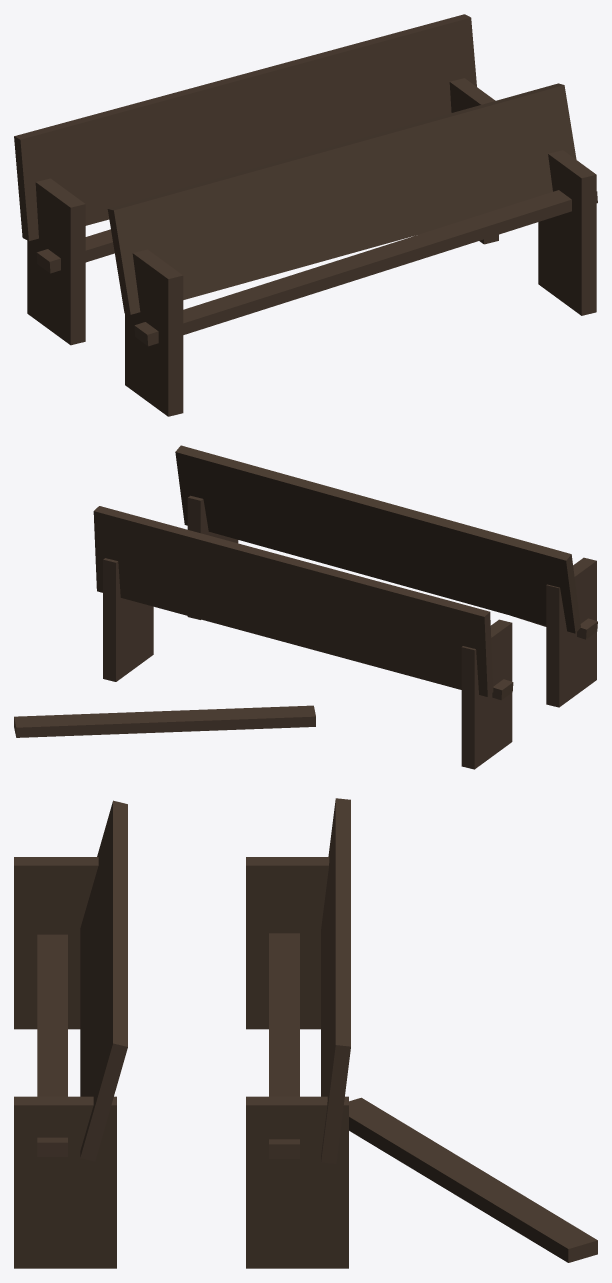
The model's file is CT_ENV_Pews.fbx.
3 renders of one model, top to bottom at view 1: azimuth 30°, elevation 25°; view 2: azimuth 150°, elevation 25°; view 3: azimuth 270°, elevation 25°, orthographic. The views are drawn at different scales.
Parts seen in each view (by area): view 1: CT_ENV_Pews; view 2: CT_ENV_Pews; view 3: CT_ENV_Pews.
Part boxes in pixels (bbox=[...]): CT_ENV_Pews: bbox=[14, 14, 597, 416]; CT_ENV_Pews: bbox=[14, 445, 597, 769]; CT_ENV_Pews: bbox=[14, 798, 597, 1268].
Size of the model in its own units: 2.42 by 0.9887 by 2.27.
